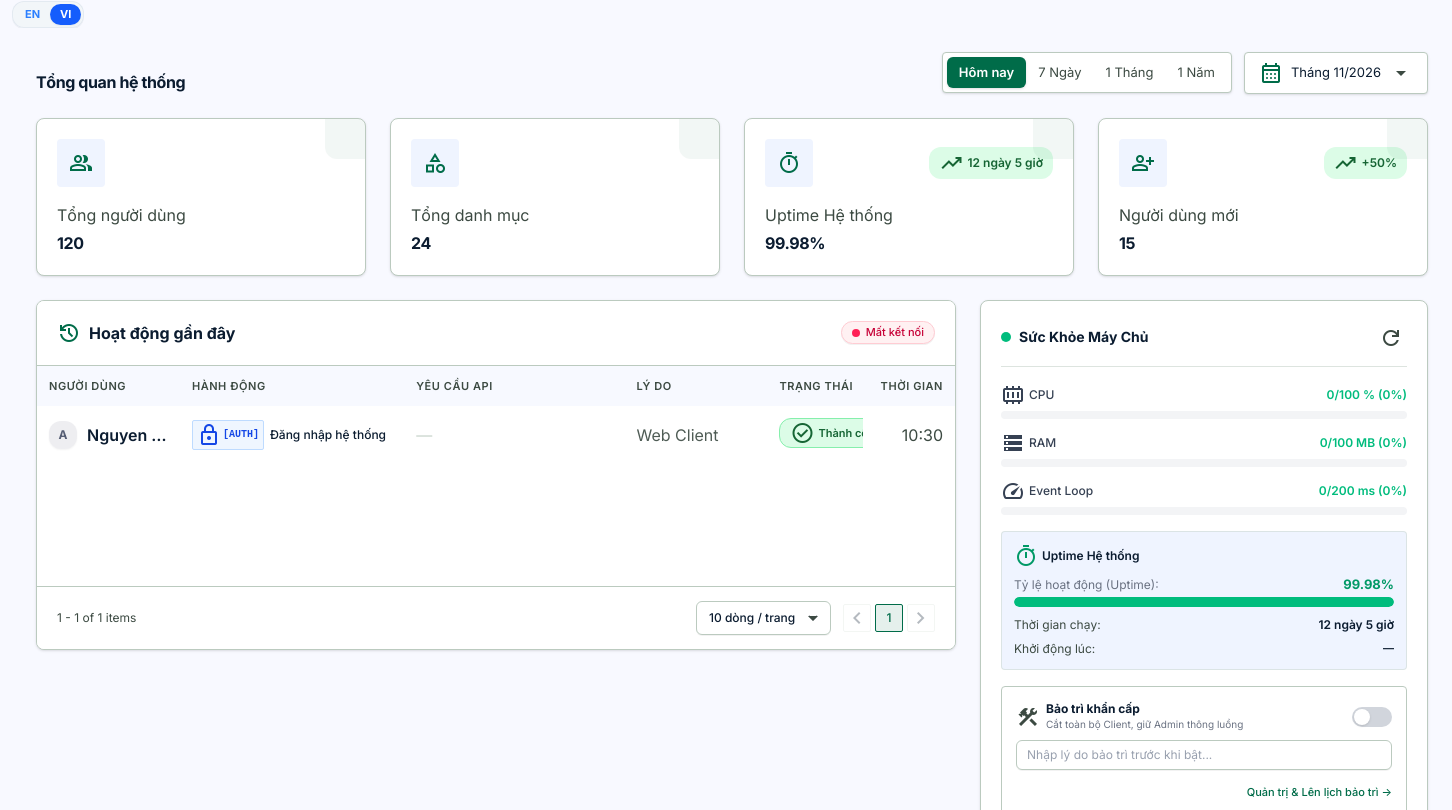
Test: Admin-web Phase 2 i18n Suite — Core Business Pages (2-Tier Testing) › 5. DashboardPage i18n Verification › 5.1. Bộ lọc thời gian, hoạt động gần đây và KPI cập nhật ngôn ngữ đồng bộ
This screenshot has width=1452, height=810.
Check: the heading "Tổng quan hệ thống" is shown, box top-left (36, 70), bottom-right (185, 94)
Check: the button "Hôm nay" is shown, box top-left (947, 57), bottom-right (1026, 88)
# Tier 2: Chuyển sang EN
Step 1. Click the button with test id "lang-btn-en" → (33, 14), box top-left (15, 4), bottom-right (50, 24)
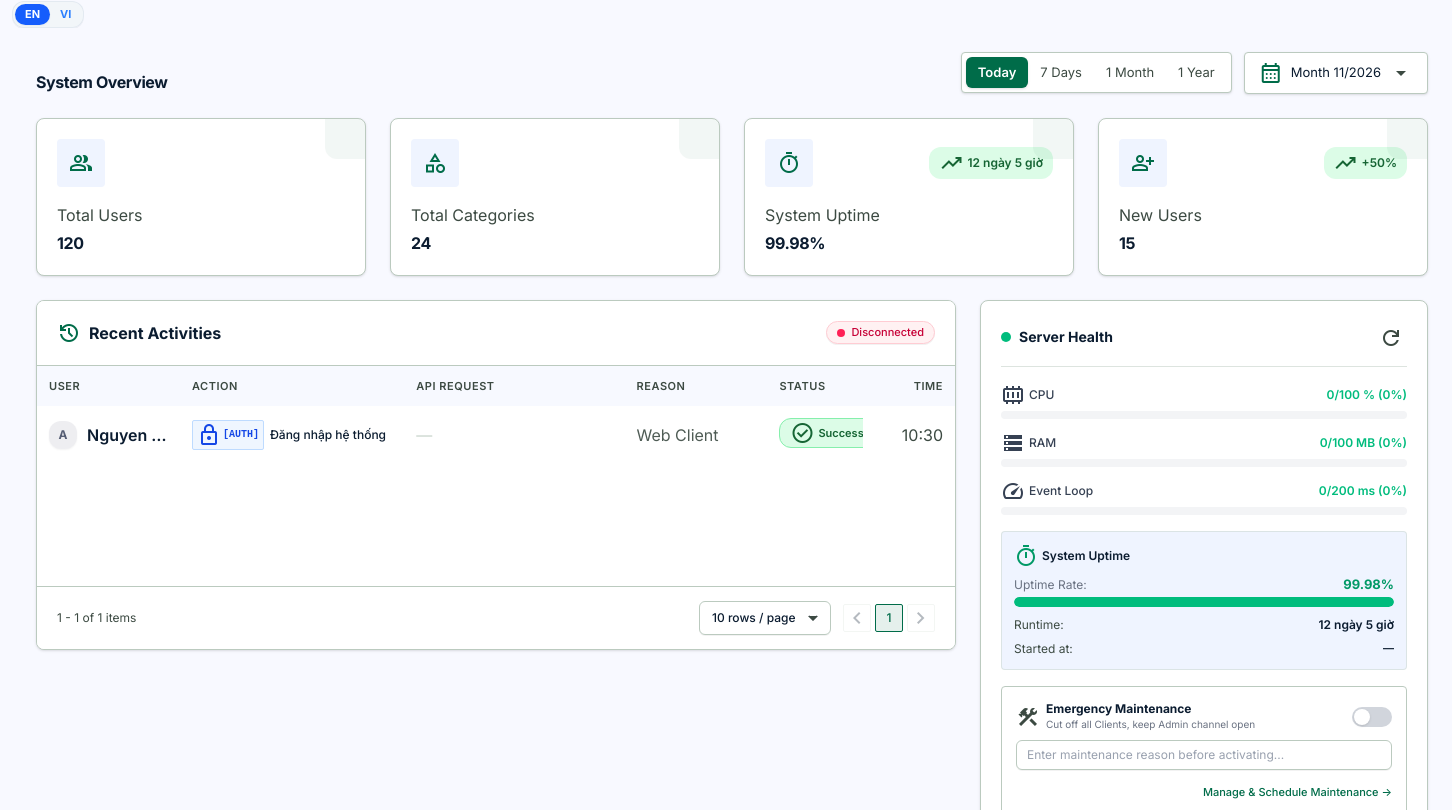
Check: the heading "System Overview" is shown, box top-left (36, 70), bottom-right (168, 94)
Check: the button "Today" is shown, box top-left (966, 57), bottom-right (1028, 88)
Check: the button "7 Days" is shown, box top-left (1028, 57), bottom-right (1094, 88)
